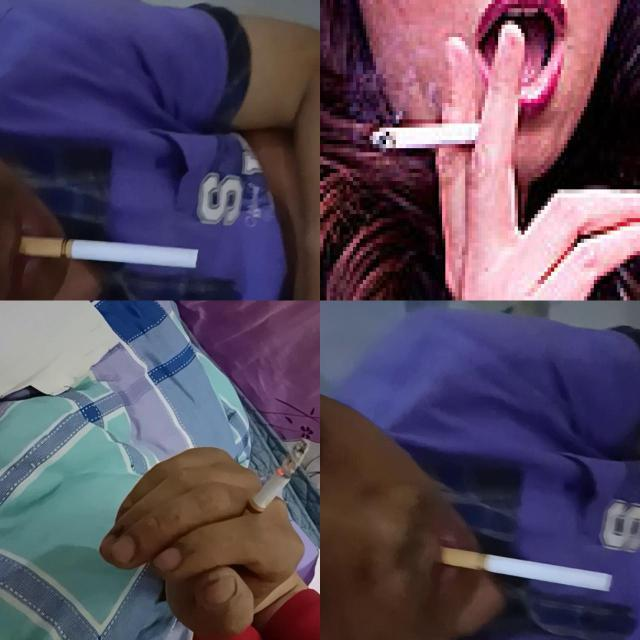smoking: (436, 542, 616, 594), (234, 438, 312, 536), (19, 236, 200, 269), (360, 115, 472, 148)
